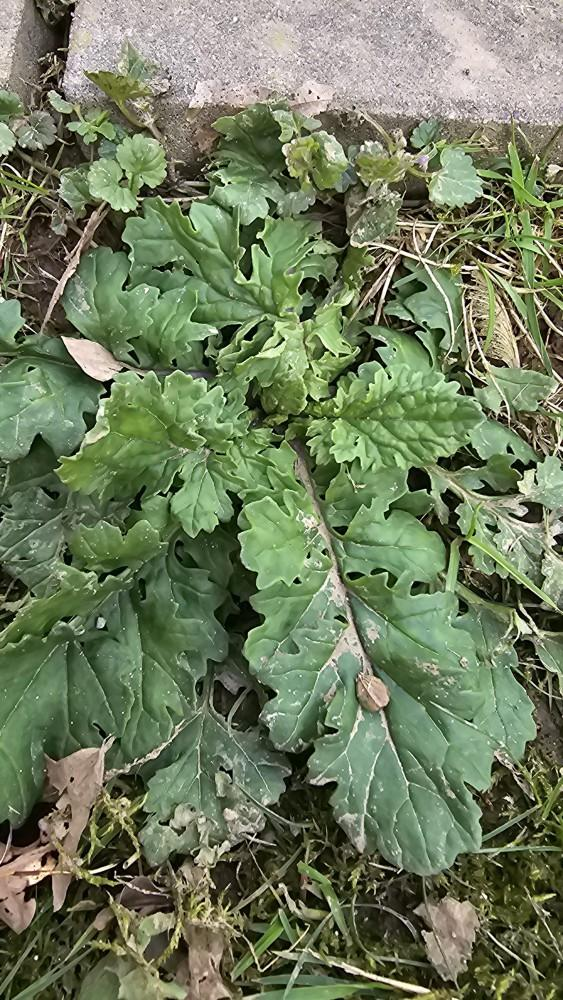Jacobaea vulgaris: (4, 189, 563, 880)
